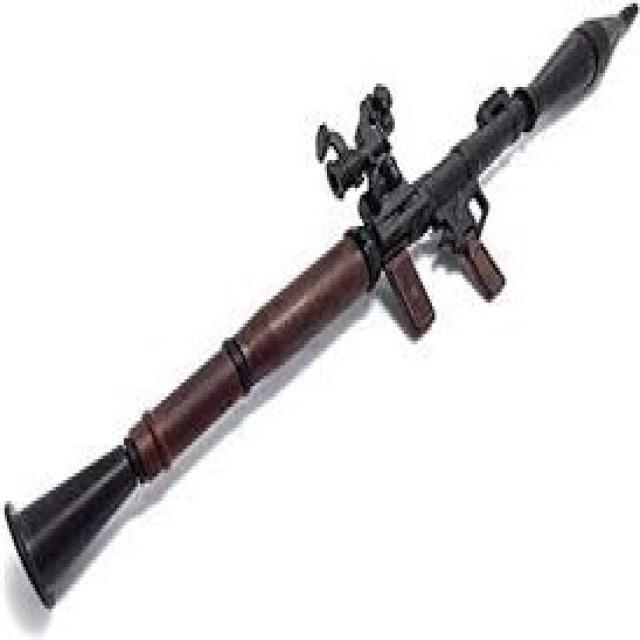bazooka: (1, 1, 640, 628)
